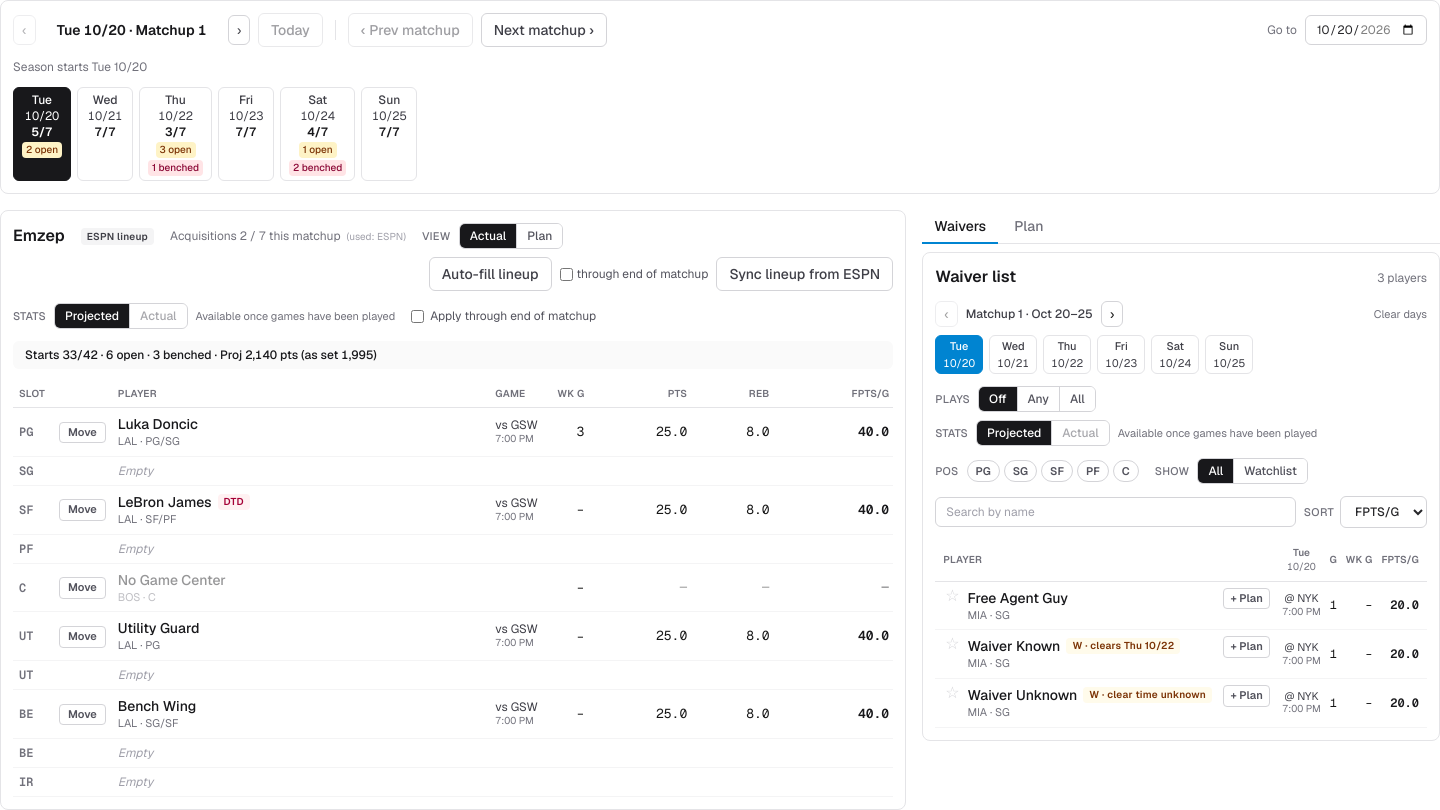
the waiver panel › doesn't re-read the list when the roster's day changes
Expected: the button "Luka Doncic" is shown, [118,414,198,434]
Expected: the button "Free Agent Guy" is shown, [968,588,1068,608]
Step 1. Click the button named "Next day" → (239, 30), box [228,15,250,45]
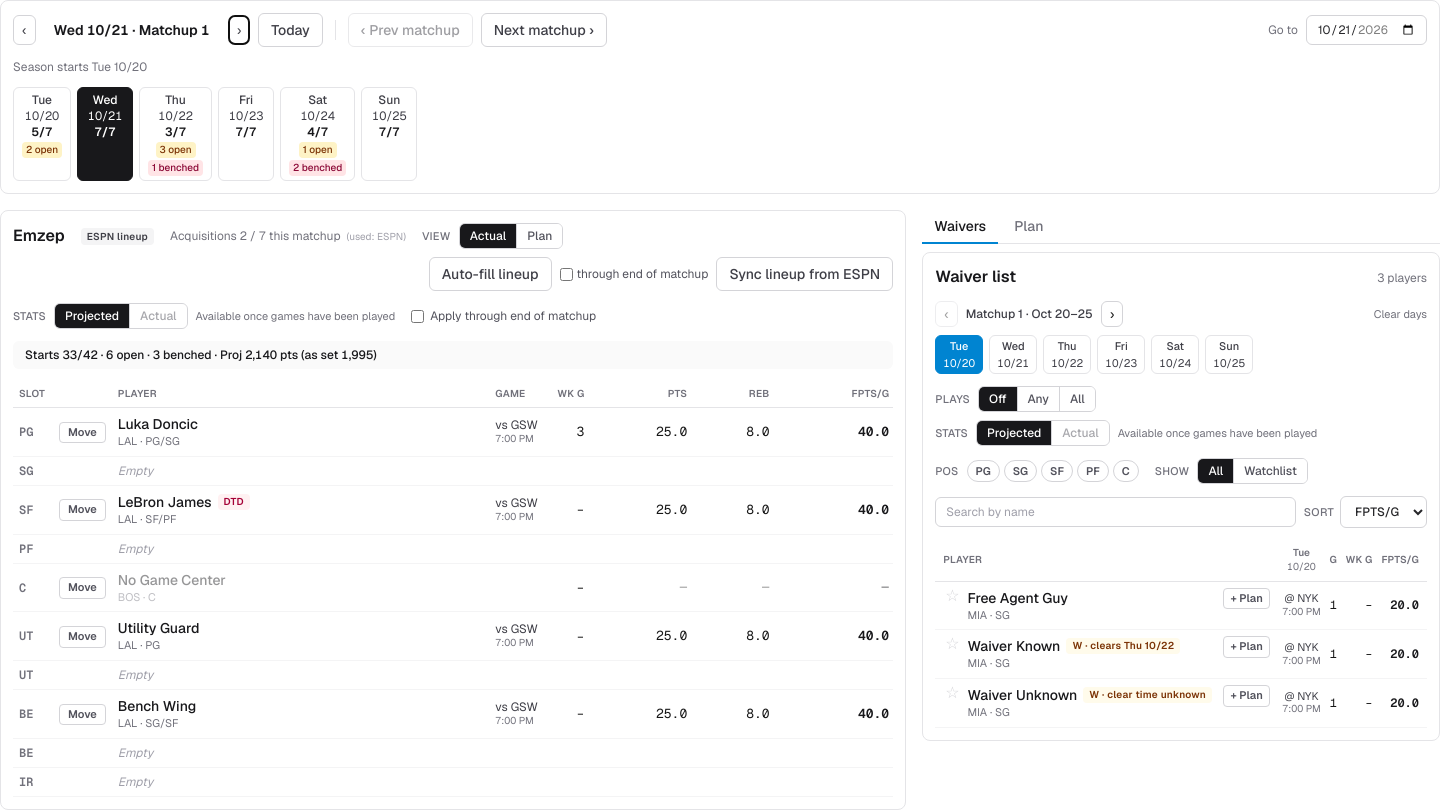
Expected: the heading "Wed 10/21 · Matchup 1" is shown, [44,20,220,40]
